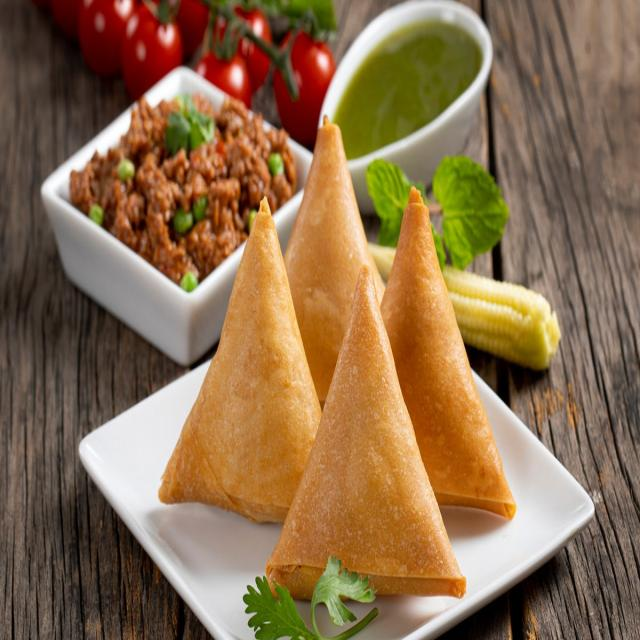SAMOSA: (267, 265, 465, 596), (159, 199, 321, 522), (380, 190, 515, 518), (284, 122, 363, 406)
